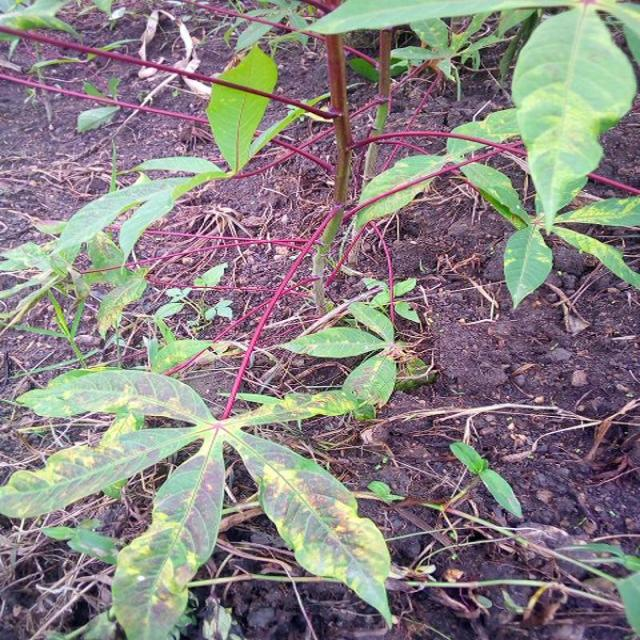cassava leaf: (227, 426, 393, 628), (510, 3, 636, 232), (205, 43, 278, 175)
